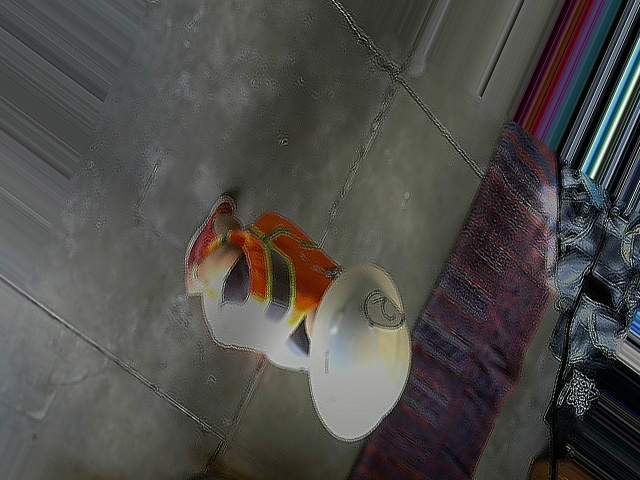two: (359, 284, 408, 339)
